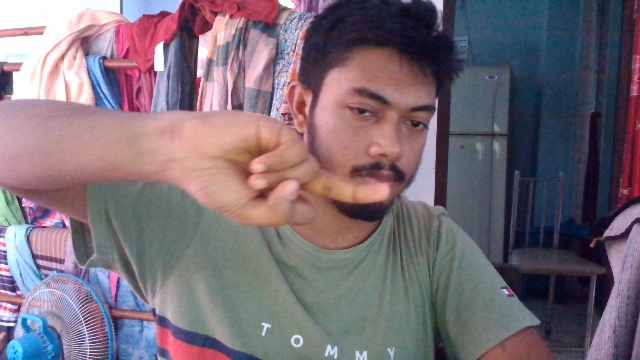fucku: (198, 111, 391, 230)
